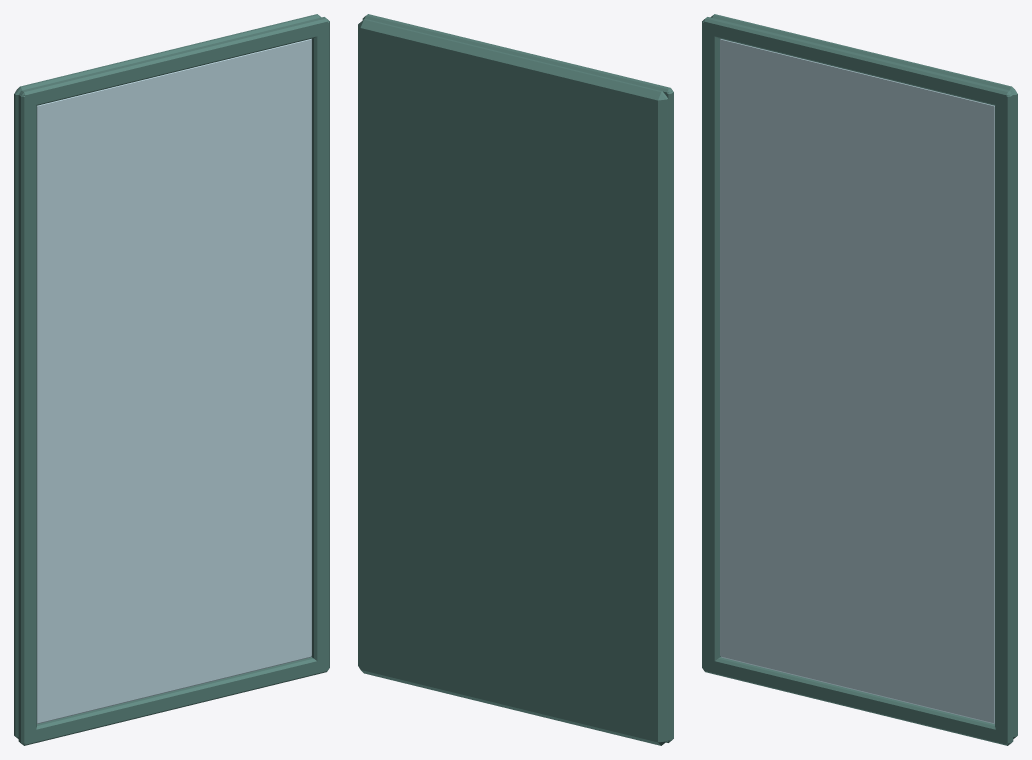
Rendered from Facilities-DressingMirror.fbx.
The picture shows the model from 3 angles, left to right: view 1: azimuth 30°, elevation 25°; view 2: azimuth 150°, elevation 25°; view 3: azimuth 330°, elevation 25°; orthographic projection.
Visible parts, largest first — view 1: Mirror Glass, Vertical Frame, Vertical Frame.001, Horizontal Frame.001, Horizontal Frame, Backing; view 2: Backing, Vertical Frame, Horizontal Frame.001; view 3: Mirror Glass, Vertical Frame.001, Vertical Frame, Horizontal Frame.001, Horizontal Frame, Backing.
Part boxes in pixels (bbox=[...]): Mirror Glass: bbox=[37, 38, 311, 723]; Vertical Frame: bbox=[18, 93, 36, 744]; Vertical Frame.001: bbox=[311, 20, 329, 671]; Horizontal Frame.001: bbox=[20, 17, 328, 107]; Horizontal Frame: bbox=[21, 657, 327, 745]; Backing: bbox=[14, 14, 321, 738]; Backing: bbox=[358, 19, 668, 745]; Vertical Frame: bbox=[666, 91, 673, 741]; Horizontal Frame.001: bbox=[364, 14, 672, 95]; Mirror Glass: bbox=[720, 38, 994, 723]; Vertical Frame.001: bbox=[995, 93, 1013, 744]; Vertical Frame: bbox=[702, 20, 720, 671]; Horizontal Frame.001: bbox=[703, 17, 1011, 107]; Horizontal Frame: bbox=[704, 657, 1010, 745]; Backing: bbox=[710, 14, 1017, 738].
Bounding box in the file's own units: 0.87 × 1.76 × 0.0555.
